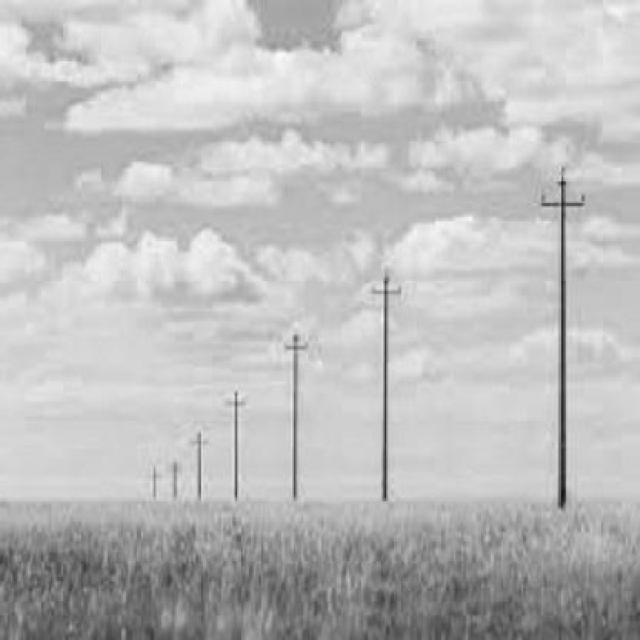Pole: (541, 166, 585, 508), (371, 269, 400, 499), (285, 334, 306, 498)
